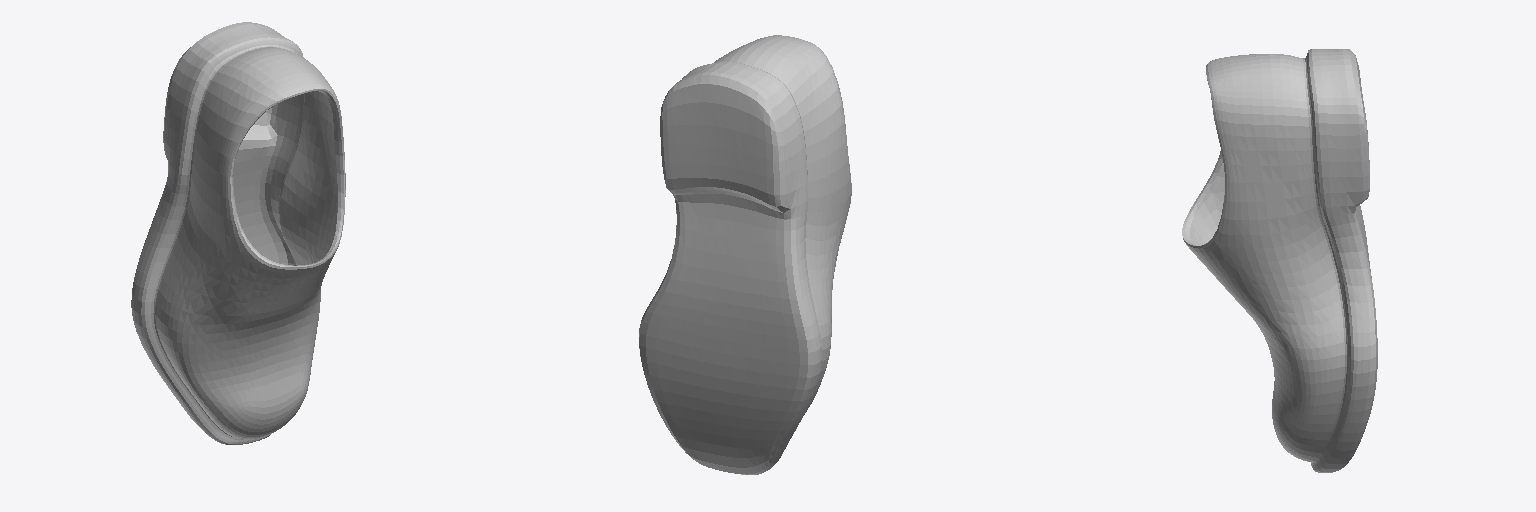
File: ShoeC2.obj
3 views of the same model, side by side, from view 1: azimuth 30°, elevation 25°; view 2: azimuth 150°, elevation 25°; view 3: azimuth 270°, elevation 25° (orthographic).
Parts seen in each view (by area): view 1: ShoeC2_Cylinder.010; view 2: ShoeC2_Cylinder.010; view 3: ShoeC2_Cylinder.010.
Part boxes in pixels (left/top/right/bottom): ShoeC2_Cylinder.010: left=131, top=22, right=345, bottom=444; ShoeC2_Cylinder.010: left=639, top=35, right=851, bottom=474; ShoeC2_Cylinder.010: left=1182, top=49, right=1377, bottom=472.
Size of the model in its own units: 3.02 by 6.86 by 2.99.